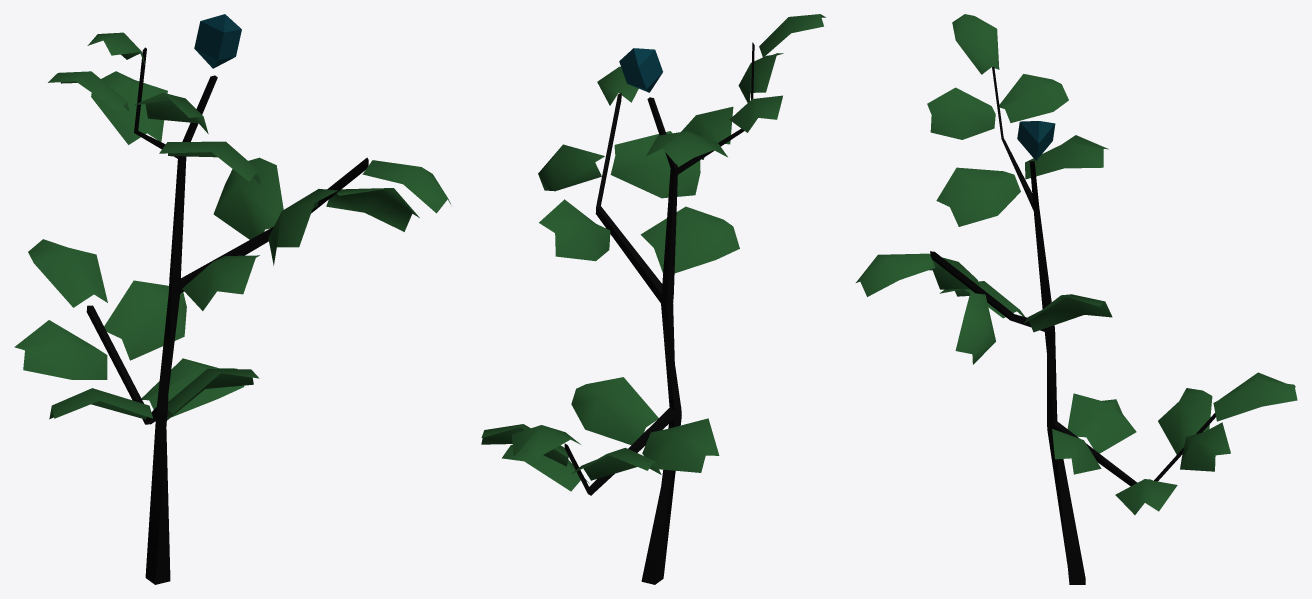
The model's file is BranchFlower2.fbx.
3 views of the same model, side by side, from view 1: azimuth 30°, elevation 25°; view 2: azimuth 150°, elevation 25°; view 3: azimuth 270°, elevation 25° (orthographic). The views are drawn at different scales.
Visible parts, largest first — view 1: BranchFlowerSmall; view 2: BranchFlowerSmall; view 3: BranchFlowerSmall.
Boxes of the visible parts, box(x1,y1,x2,y2) form: BranchFlowerSmall: box(14, 14, 450, 584); BranchFlowerSmall: box(481, 14, 825, 584); BranchFlowerSmall: box(856, 14, 1297, 584).
Size of the model in its own units: 1.59 by 2.89 by 2.24.
